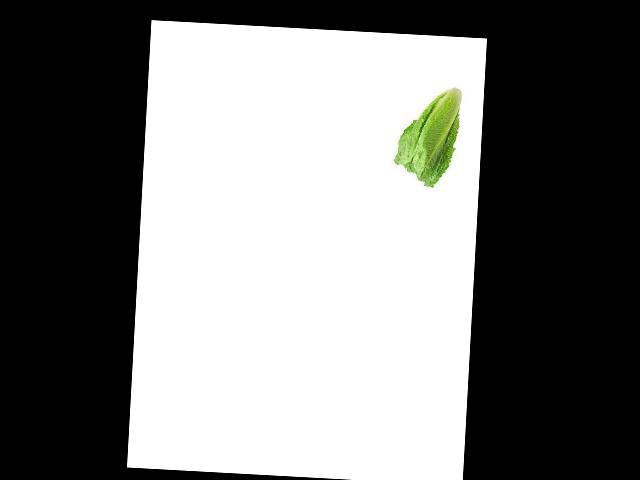lettuce: (385, 93, 482, 205)
